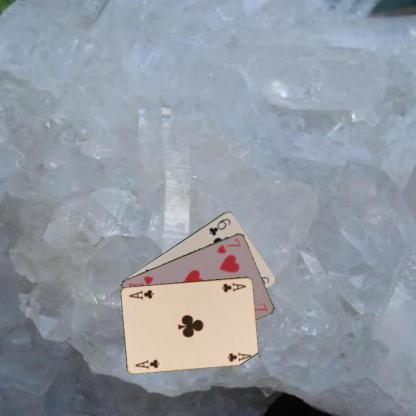6c: (206, 215, 232, 237)
7h: (214, 236, 242, 255)
Ac: (133, 356, 161, 370), (219, 280, 247, 293)
